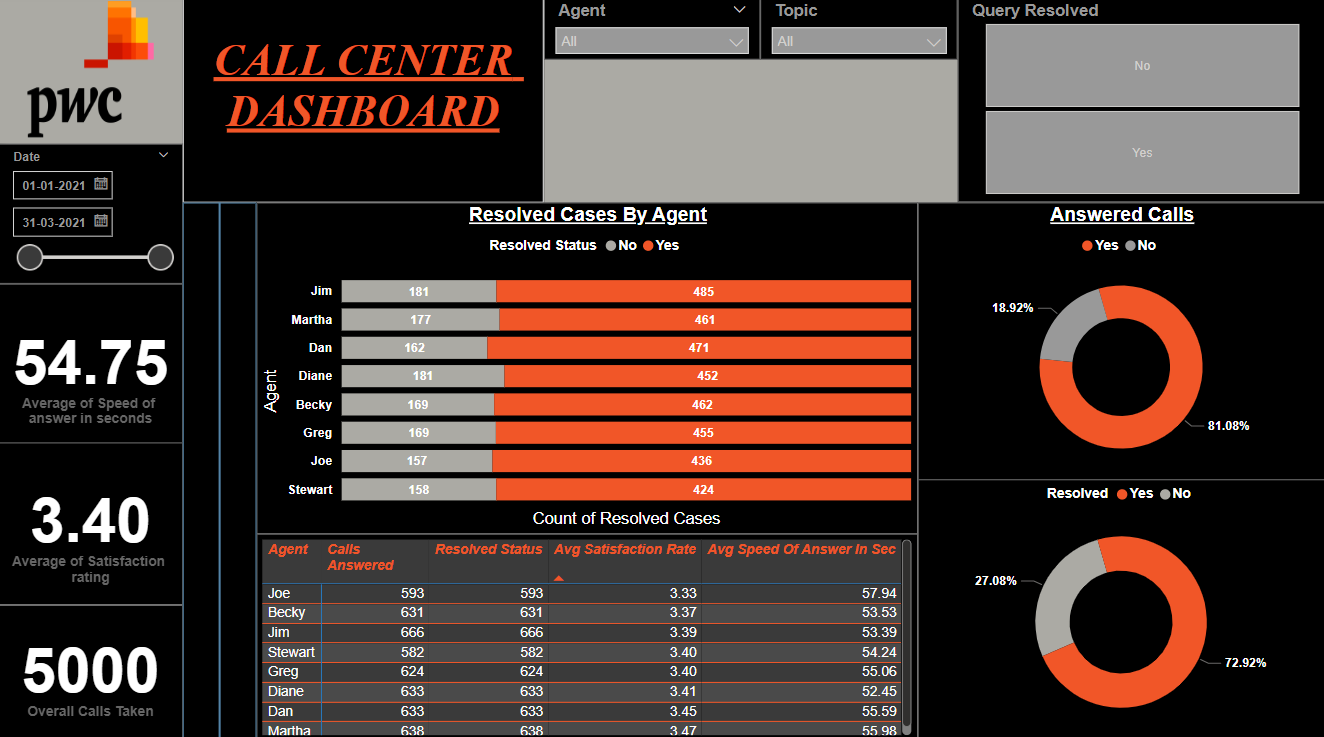

This screenshot's page, from the dashboard's own definition file:
{"tool":"powerbi","page":{"name":"Page 1","canvas":[1280,720],"ordinal":0},"visuals":[{"type":"image","box":[0,0,177.3,143.6],"z":0},{"type":"textbox","box":[177.3,0,348.7,200.3],"z":1000},{"type":"slicer","fields":{"Values":["Sheet1.Agent"]},"box":[526,0,208.7,62.7],"z":2000},{"type":"slicer","fields":{"Values":["Sheet1.Topic"]},"box":[734.7,0,190.6,62.7],"z":3000},{"type":"slicer","fields":{"Values":["Sheet1.Date"]},"box":[0,143.6,177.3,135.1],"z":4000},{"type":"donutChart","title":"Resolved Status","fields":{"Category":["Sheet1.Resolved"],"Y":["CountNonNull(Sheet1.Resolved)"]},"box":[886.7,440.4,393.3,279.9],"z":5000},{"type":"donutChart","title":"Answered Calls","fields":{"Category":["Sheet1.Answered (Y/N)","Sheet1.Resolved"],"Y":["CountNonNull(Sheet1.Answered (Y/N))"]},"box":[886.7,200.3,393.3,267.8],"z":6000},{"type":"card","fields":{"Values":["Avg(Sheet1.Speed of answer in seconds)"]},"box":[0,278.7,177.3,156.8],"z":7000},{"type":"card","fields":{"Values":["Avg(Sheet1.Satisfaction rating)"]},"box":[0,431.9,177.3,156.8],"z":8000},{"type":"card","fields":{"Values":["CountNonNull(Sheet1.Answered (Y/N))"]},"box":[0,588.7,177.3,131.5],"z":9000},{"type":"pivotTable","fields":{"Rows":["Sheet1.Agent"],"Values":["CountNonNull(Sheet1.Answered (Y/N))","CountNonNull(Sheet1.Resolved)","Avg(Sheet1.Satisfaction rating)","Avg(Sheet1.Speed of answer in seconds)"]},"box":[248.5,520,638.2,200.3],"z":10000},{"type":"slicer","fields":{"Values":["Sheet1.Resolved"]},"box":[925.3,0,354.7,200.3],"z":11000},{"type":"hundredPercentStackedBarChart","title":"Resolved Cases By Agent","fields":{"Category":["Sheet1.Agent"],"Y":["CountNonNull(Sheet1.Resolved)"],"Series":["Sheet1.Resolved"]},"box":[248.5,200.3,638.2,319.7],"z":12000},{"type":"shape","box":[177.3,200.3,71.2,520],"z":12001},{"type":"shape","box":[62.7,200.3,300.4,520],"z":12002}]}

Visuals, with their boxes in screenshot pixels (x1, y1, x2, y2), scaled from the page's 1280x720 canvas onto the 1324x737 screenshot:
image: locate(0, 0, 183, 147)
textbox: locate(183, 0, 544, 205)
slicer - Sheet1.Agent: locate(544, 0, 760, 64)
slicer - Sheet1.Topic: locate(760, 0, 957, 64)
slicer - Sheet1.Date: locate(0, 147, 183, 285)
"Resolved Status" donutChart: locate(917, 451, 1323, 736)
"Answered Calls" donutChart: locate(917, 205, 1323, 479)
card - Avg(Sheet1.Speed of answer in seconds): locate(0, 285, 183, 446)
card - Avg(Sheet1.Satisfaction rating): locate(0, 442, 183, 603)
card - CountNonNull(Sheet1.Answered (Y/N)): locate(0, 603, 183, 736)
pivotTable - Sheet1.Agent x CountNonNull(Sheet1.Answered (Y/N)): locate(257, 532, 917, 736)
slicer - Sheet1.Resolved: locate(957, 0, 1323, 205)
"Resolved Cases By Agent" hundredPercentStackedBarChart: locate(257, 205, 917, 532)
shape: locate(183, 205, 257, 736)
shape: locate(65, 205, 376, 736)
